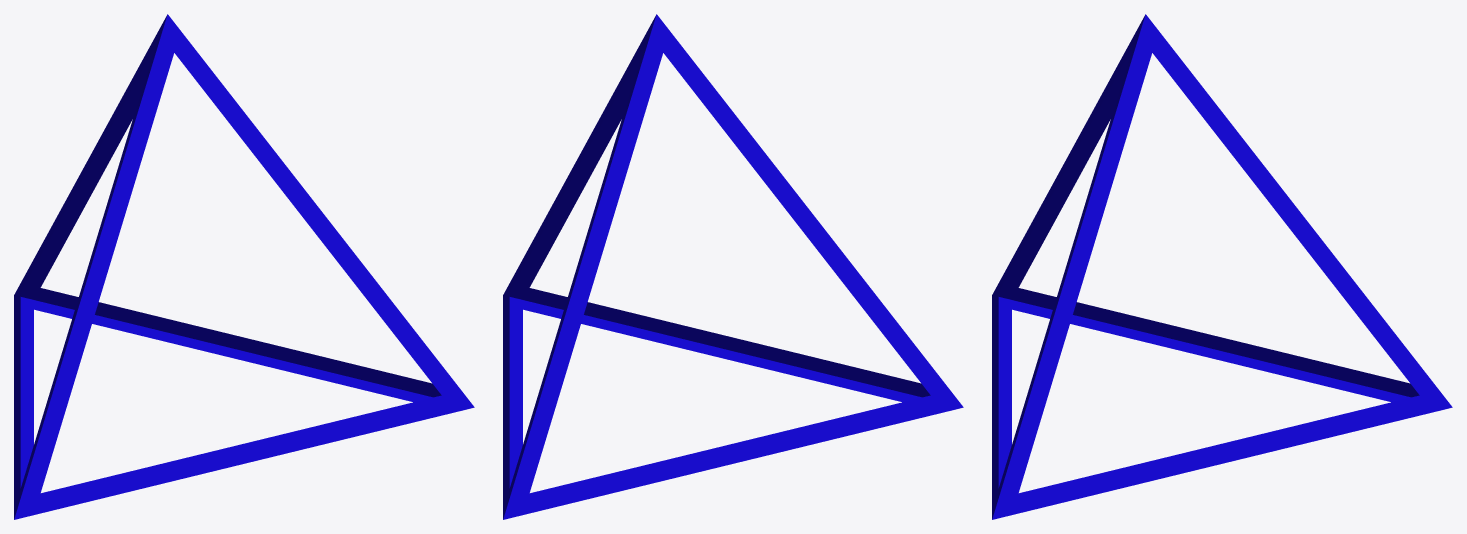
Rendered from tetraedro-aresta.glb.
3 renders of one model, left to right at view 1: azimuth 30°, elevation 25°; view 2: azimuth 150°, elevation 25°; view 3: azimuth 270°, elevation 25°, orthographic.
Parts seen in each view (by area): view 1: Cone; view 2: Cone; view 3: Cone.
Boxes of the visible parts, x1,y1,x2,y2 form: Cone: (14, 14, 474, 519); Cone: (503, 14, 963, 519); Cone: (992, 14, 1452, 519).
Bounding box in the file's own units: 1 × 0.82 × 0.87.
